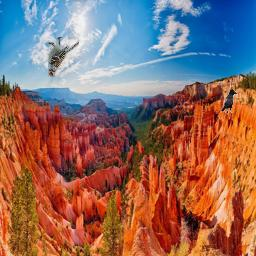Crow: (221, 89, 237, 113)
Sparrow: (48, 37, 79, 77)
